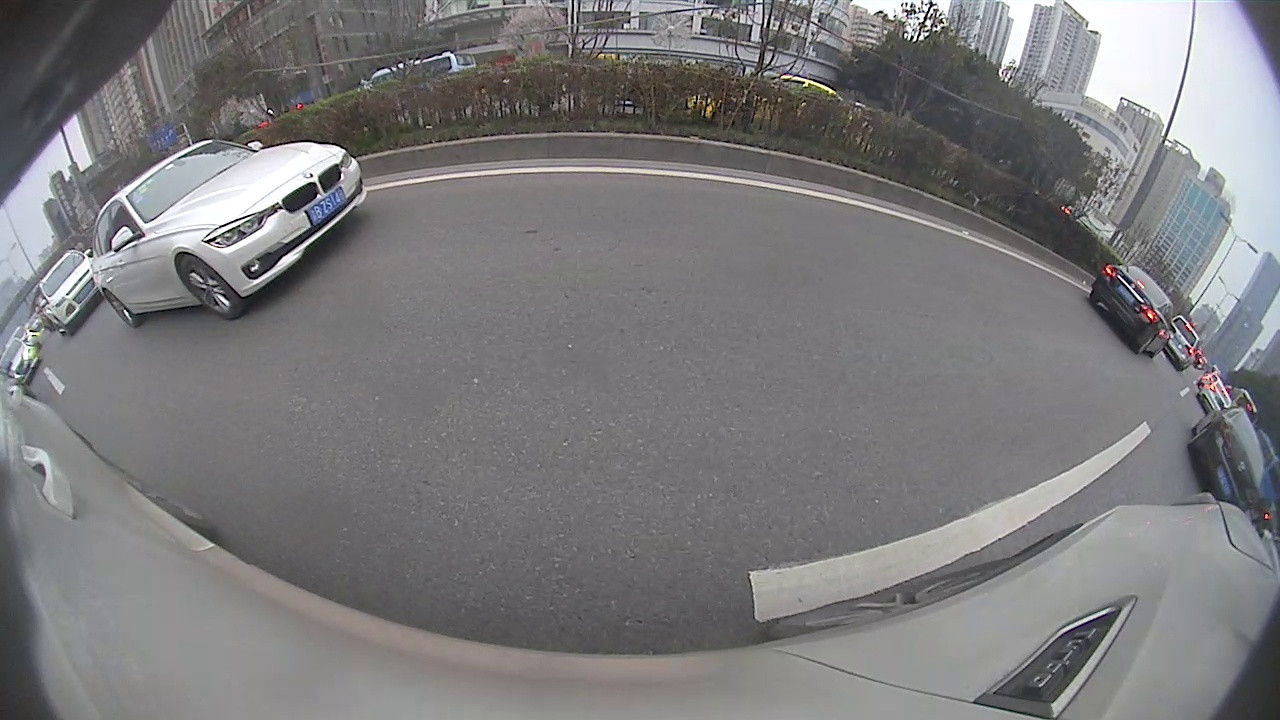car: (88, 137, 368, 331), (1186, 397, 1268, 510), (1087, 261, 1178, 359), (34, 248, 102, 336), (1161, 315, 1203, 373)
front: (178, 255, 235, 320)
rear: (104, 289, 139, 330)
